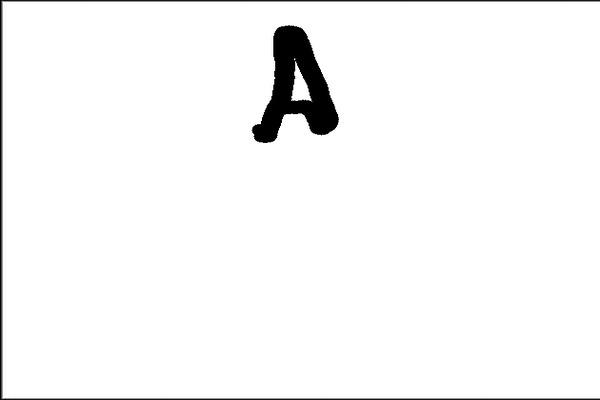A: (244, 20, 346, 144)
